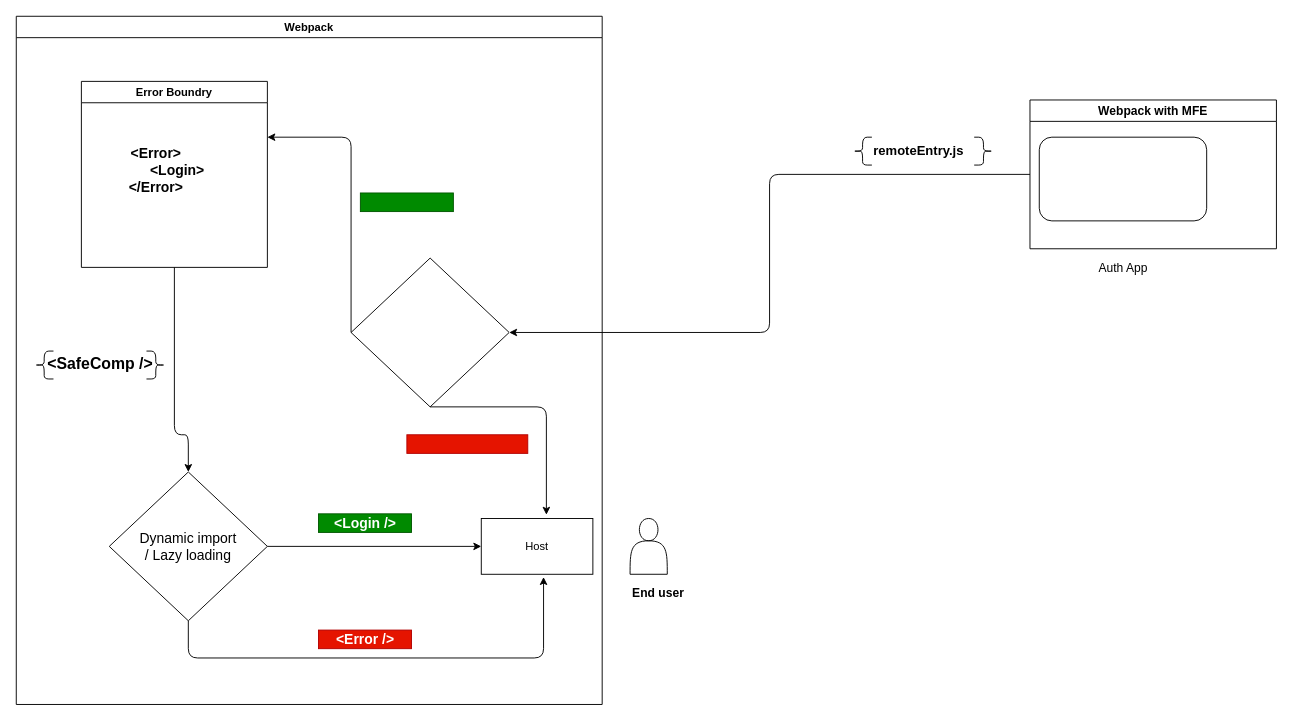
Some shapes in this 1293 by 721 pixel diagram are drawn without their labels. The centre of each missing label's shape, as x and y in pixels:
chunk loading: the point at 429,332
exposes : { Login }: the point at 1122,178
failed (console): the point at 467,443
Success: the point at 406,202
